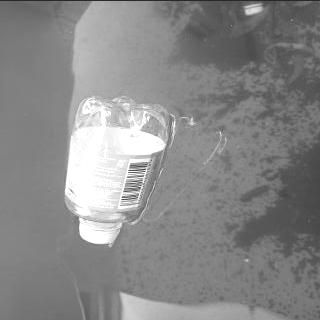bottle: (58, 93, 175, 246)
